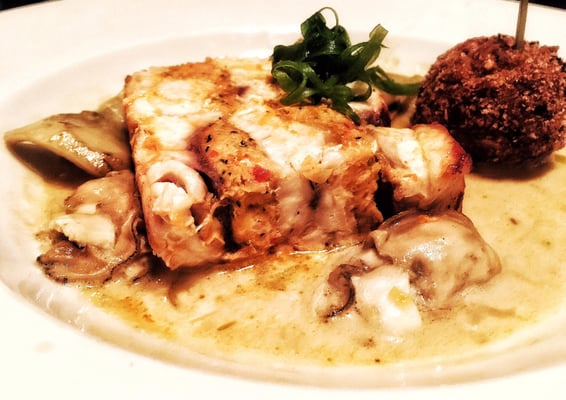curry: (1, 2, 561, 400)
sandwich: (1, 32, 558, 384)
